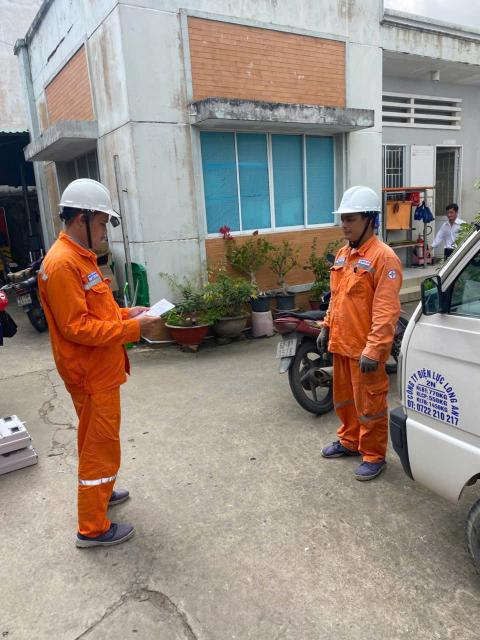gloves: (353, 345, 388, 382), (306, 322, 341, 356)
helmet: (48, 168, 131, 222), (320, 178, 408, 220)
shoes: (58, 507, 156, 558), (67, 479, 156, 505), (312, 434, 378, 463), (345, 453, 395, 490)
